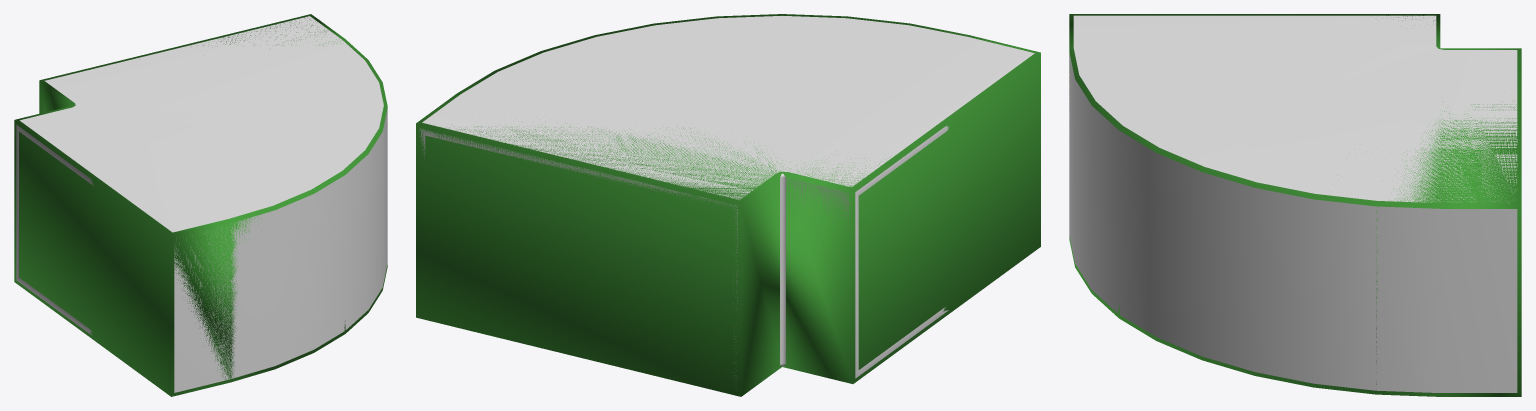
The model's file is DuctHorizontalElbow_01_Mesh.fbx.
The picture shows the model from 3 angles, left to right: view 1: azimuth 30°, elevation 25°; view 2: azimuth 150°, elevation 25°; view 3: azimuth 270°, elevation 25°; orthographic projection. The views are drawn at different scales.
Parts seen in each view (by area): view 1: HorizontalElbow_01_LOD0, Duct_HorizontalElbow_01_Col; view 2: Duct_HorizontalElbow_01_Col, HorizontalElbow_01_LOD0; view 3: HorizontalElbow_01_LOD0, Duct_HorizontalElbow_01_Col.
Boxes of the visible parts, x1,y1,x2,y2 form: HorizontalElbow_01_LOD0: (16, 16, 387, 392); Duct_HorizontalElbow_01_Col: (14, 14, 387, 396); Duct_HorizontalElbow_01_Col: (416, 14, 1040, 396); HorizontalElbow_01_LOD0: (419, 15, 1034, 378); HorizontalElbow_01_LOD0: (1069, 15, 1517, 392); Duct_HorizontalElbow_01_Col: (1069, 14, 1521, 396).
Size of what is drawn, in the model's own units: 85.28 by 39.97 by 85.31.
